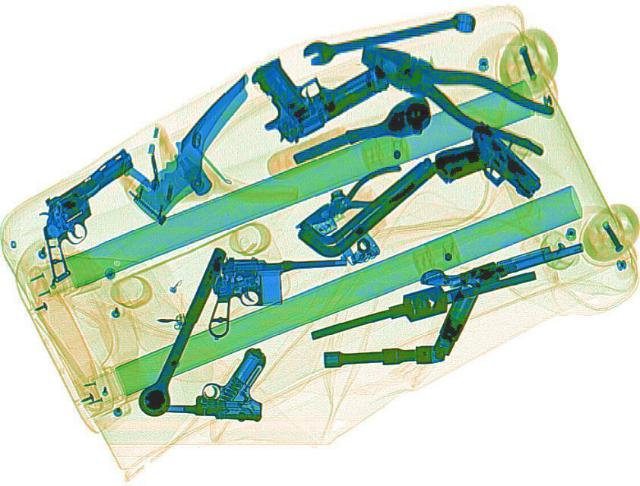Gun: (0, 149, 187, 274), (218, 24, 398, 145), (416, 121, 550, 218), (206, 252, 350, 337), (411, 229, 555, 299), (154, 342, 268, 419)
Pliers: (344, 28, 578, 157), (281, 160, 421, 241)
Wrench: (296, 5, 479, 66)
